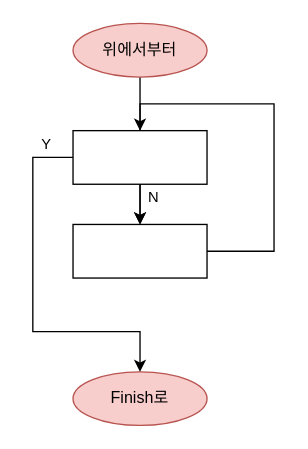
The diagram is 308 pixels wide and 449 high, and some of its shapes have lost their labels. Each missing label, with the box of its shape:
버스트 확인 17Over 확인: (72, 129, 207, 184)
카드 받기: (72, 223, 207, 278)
